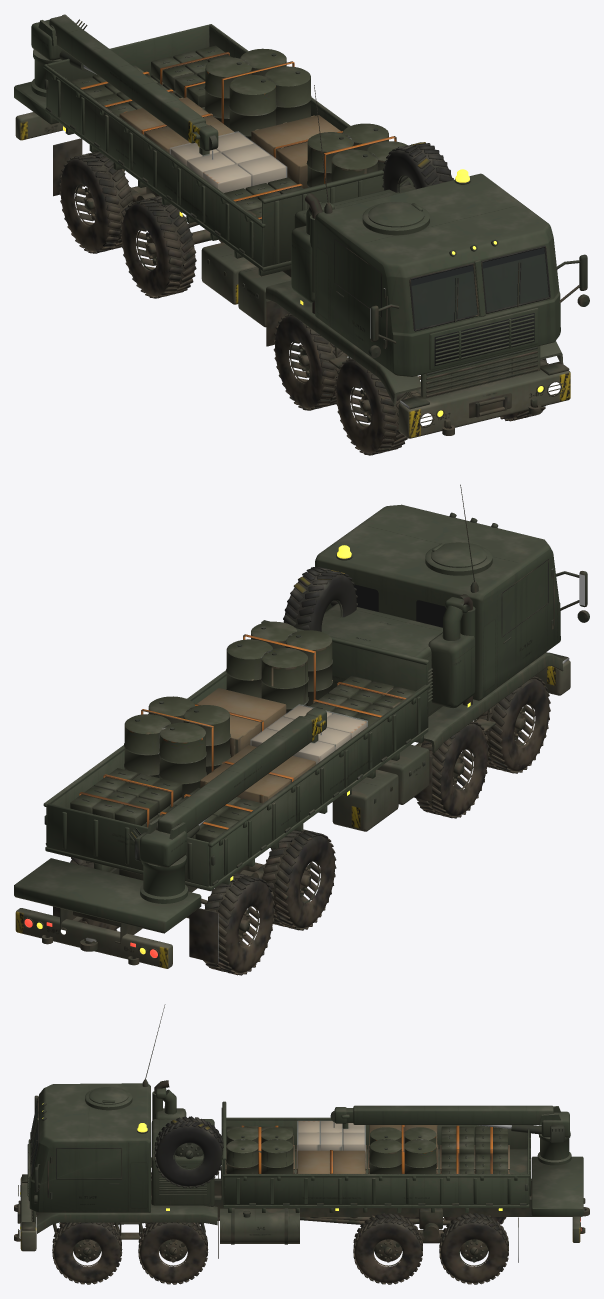
File: hemtt_m977a4.glb
3 renders of one model, top to bottom at view 1: azimuth 30°, elevation 25°; view 2: azimuth 150°, elevation 25°; view 3: azimuth 270°, elevation 25°, orthographic. The views are drawn at different scales.
Parts seen in each view (by area): view 1: Cab_Shell, Cargo_Body_Mesh, Bumper, Cargo_Pallet_5_Mesh, Cab_Glass, Wheel_3_Right_Mesh, Wheel_4_Right_Mesh, Crane_Boom_Mesh, Wheel_1_Right_Mesh, Wheel_2_Right_Mesh, Cargo_Pallet_1_Mesh, Grille (+21 smaller); view 2: Cargo_Body_Mesh, Cab_Shell, Rear_End, Engine_Bay, Cargo_Pallet_5_Mesh, Cargo_Pallet_1_Mesh, Wheel_3_Right_Mesh, Crane_Boom_Mesh, Wheel_4_Right_Mesh, Battery_And_Tool_Boxes, Wheel_1_Right_Mesh, Wheel_2_Right_Mesh (+16 smaller); view 3: Cab_Shell, Cargo_Body_Mesh, Crane_Boom_Mesh, Wheel_3_Left_Mesh, Wheel_4_Left_Mesh, Spare_Tire_Mesh, Wheel_2_Left_Mesh, Wheel_1_Left_Mesh, Frame_And_Running_Gear, Rear_End, Engine_Bay, Cargo_Pallet_1_Mesh (+13 smaller).
Boxes of the visible parts, left/top/right/bottom form: Cab_Shell: left=315, top=173, right=560, bottom=376; Cargo_Body_Mesh: left=43, top=24, right=414, bottom=276; Bumper: left=398, top=346, right=570, bottom=438; Cargo_Pallet_5_Mesh: left=204, top=48, right=311, bottom=140; Cab_Glass: left=411, top=248, right=548, bottom=329; Wheel_3_Right_Mesh: left=120, top=196, right=196, bottom=298; Wheel_4_Right_Mesh: left=59, top=151, right=133, bottom=253; Crane_Boom_Mesh: left=49, top=15, right=205, bottom=143; Wheel_1_Right_Mesh: left=335, top=358, right=407, bottom=455; Wheel_2_Right_Mesh: left=273, top=313, right=347, bottom=410; Cargo_Pallet_1_Mesh: left=306, top=123, right=407, bottom=187; Grille: left=429, top=308, right=538, bottom=370; Cargo_Body_Mesh: left=43, top=620, right=430, bottom=891; Cab_Shell: left=315, top=504, right=560, bottom=700; Rear_End: left=14, top=858, right=201, bottom=968; Engine_Bay: left=321, top=594, right=475, bottom=716; Cargo_Pallet_5_Mesh: left=124, top=696, right=230, bottom=798; Cargo_Pallet_1_Mesh: left=226, top=621, right=332, bottom=713; Wheel_3_Right_Mesh: left=261, top=829, right=336, bottom=930; Crane_Boom_Mesh: left=156, top=716, right=314, bottom=841; Wheel_4_Right_Mesh: left=203, top=873, right=274, bottom=975; Battery_And_Tool_Boxes: left=332, top=744, right=429, bottom=831; Wheel_1_Right_Mesh: left=476, top=676, right=550, bottom=773; Wheel_2_Right_Mesh: left=416, top=721, right=489, bottom=818; Cab_Shell: left=29, top=1083, right=150, bottom=1212; Cargo_Body_Mesh: left=221, top=1101, right=530, bottom=1212; Crane_Boom_Mesh: left=353, top=1105, right=553, bottom=1134; Wheel_3_Left_Mesh: left=353, top=1213, right=422, bottom=1284; Wheel_4_Left_Mesh: left=439, top=1213, right=508, bottom=1284; Spare_Tire_Mesh: left=154, top=1116, right=223, bottom=1188; Wheel_2_Left_Mesh: left=138, top=1222, right=208, bottom=1284; Wheel_1_Left_Mesh: left=52, top=1222, right=122, bottom=1284; Frame_And_Running_Gear: left=36, top=1178, right=581, bottom=1243; Rear_End: left=531, top=1156, right=589, bottom=1242; Engine_Bay: left=151, top=1080, right=214, bottom=1206; Cargo_Pallet_1_Mesh: left=225, top=1127, right=294, bottom=1173.
Bounding box in the file's own units: 3.16 × 4.45 × 10.21.
11 materials, 4 textured.
